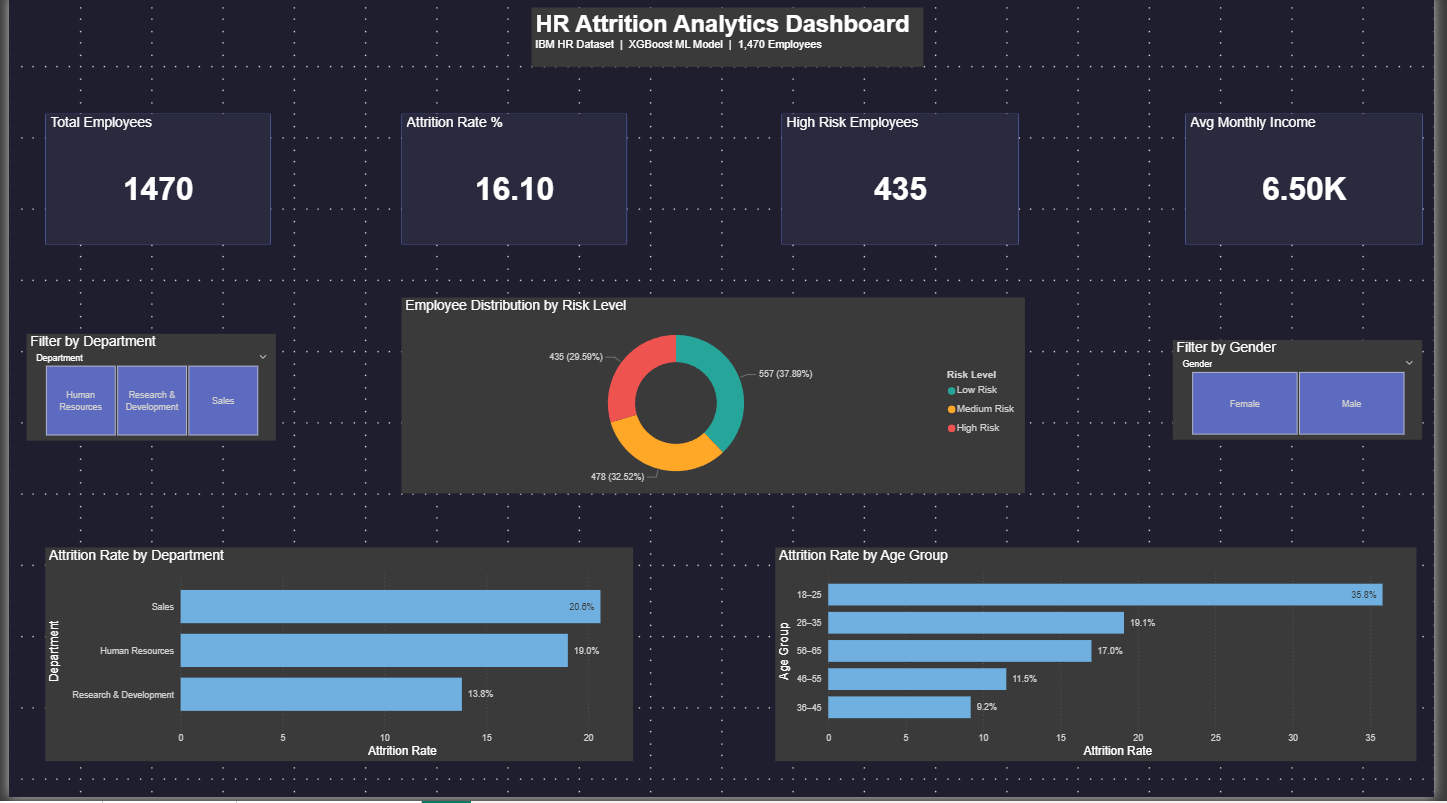

This screenshot's page, from the dashboard's own definition file:
{"tool":"powerbi","page":{"name":"Overview","canvas":[1920,1080],"ordinal":0},"visuals":[{"type":"card","title":"Total Employees","fields":{"Values":["hr_for_powerbi.Total Employees"]},"box":[48,160,304,176],"z":0},{"type":"card","title":"Attrition Rate %","fields":{"Values":["hr_for_powerbi.Attrition Rate"]},"box":[528,160,304,176],"z":1000},{"type":"card","title":"Avg Monthly Income","fields":{"Values":["hr_for_powerbi.Avg Monthly Income"]},"box":[1584,160,320,176],"z":2000},{"type":"card","title":"High Risk Employees","fields":{"Values":["hr_for_powerbi.High Risk Count"]},"box":[1040,160,320,176],"z":3000},{"type":"donutChart","title":"Employee Distribution by Risk Level","fields":{"Category":["hr_for_powerbi.Risk_Level"],"Y":["CountNonNull(hr_for_powerbi.Attrition_Actual)"]},"box":[528,408,840,264],"z":4000},{"type":"slicer","title":"Filter by Department","fields":{"Values":["hr_for_powerbi.Department"]},"box":[24,456,336,144],"z":5000},{"type":"slicer","title":"Filter by Gender","fields":{"Values":["hr_for_powerbi.Gender"]},"box":[1568,464,336,134],"z":6000},{"type":"textbox","box":[704,16,528,80],"z":7000},{"type":"barChart","fields":{"Category":["hr_for_powerbi.Age Group"],"Y":["hr_for_powerbi.Attrition Rate"]},"box":[1032,744,864,288],"z":8000},{"type":"barChart","fields":{"Y":["hr_for_powerbi.Attrition Rate"],"Category":["hr_for_powerbi.Department"]},"box":[48,744,792,288],"z":9000}]}

Visuals, with their boxes in screenshot pixels (x1, y1, x2, y2), scaled from the page's 1920x1080 canvas onto the 1447x803 screenshot:
"Total Employees" card: (36, 119, 265, 250)
"Attrition Rate %" card: (398, 119, 627, 250)
"Avg Monthly Income" card: (1194, 119, 1435, 250)
"High Risk Employees" card: (784, 119, 1025, 250)
"Employee Distribution by Risk Level" donutChart: (398, 303, 1031, 500)
"Filter by Department" slicer: (18, 339, 271, 446)
"Filter by Gender" slicer: (1182, 345, 1435, 445)
textbox: (531, 12, 928, 71)
barChart - hr_for_powerbi.Age Group x hr_for_powerbi.Attrition Rate: (778, 553, 1429, 767)
barChart - hr_for_powerbi.Attrition Rate x hr_for_powerbi.Department: (36, 553, 633, 767)
